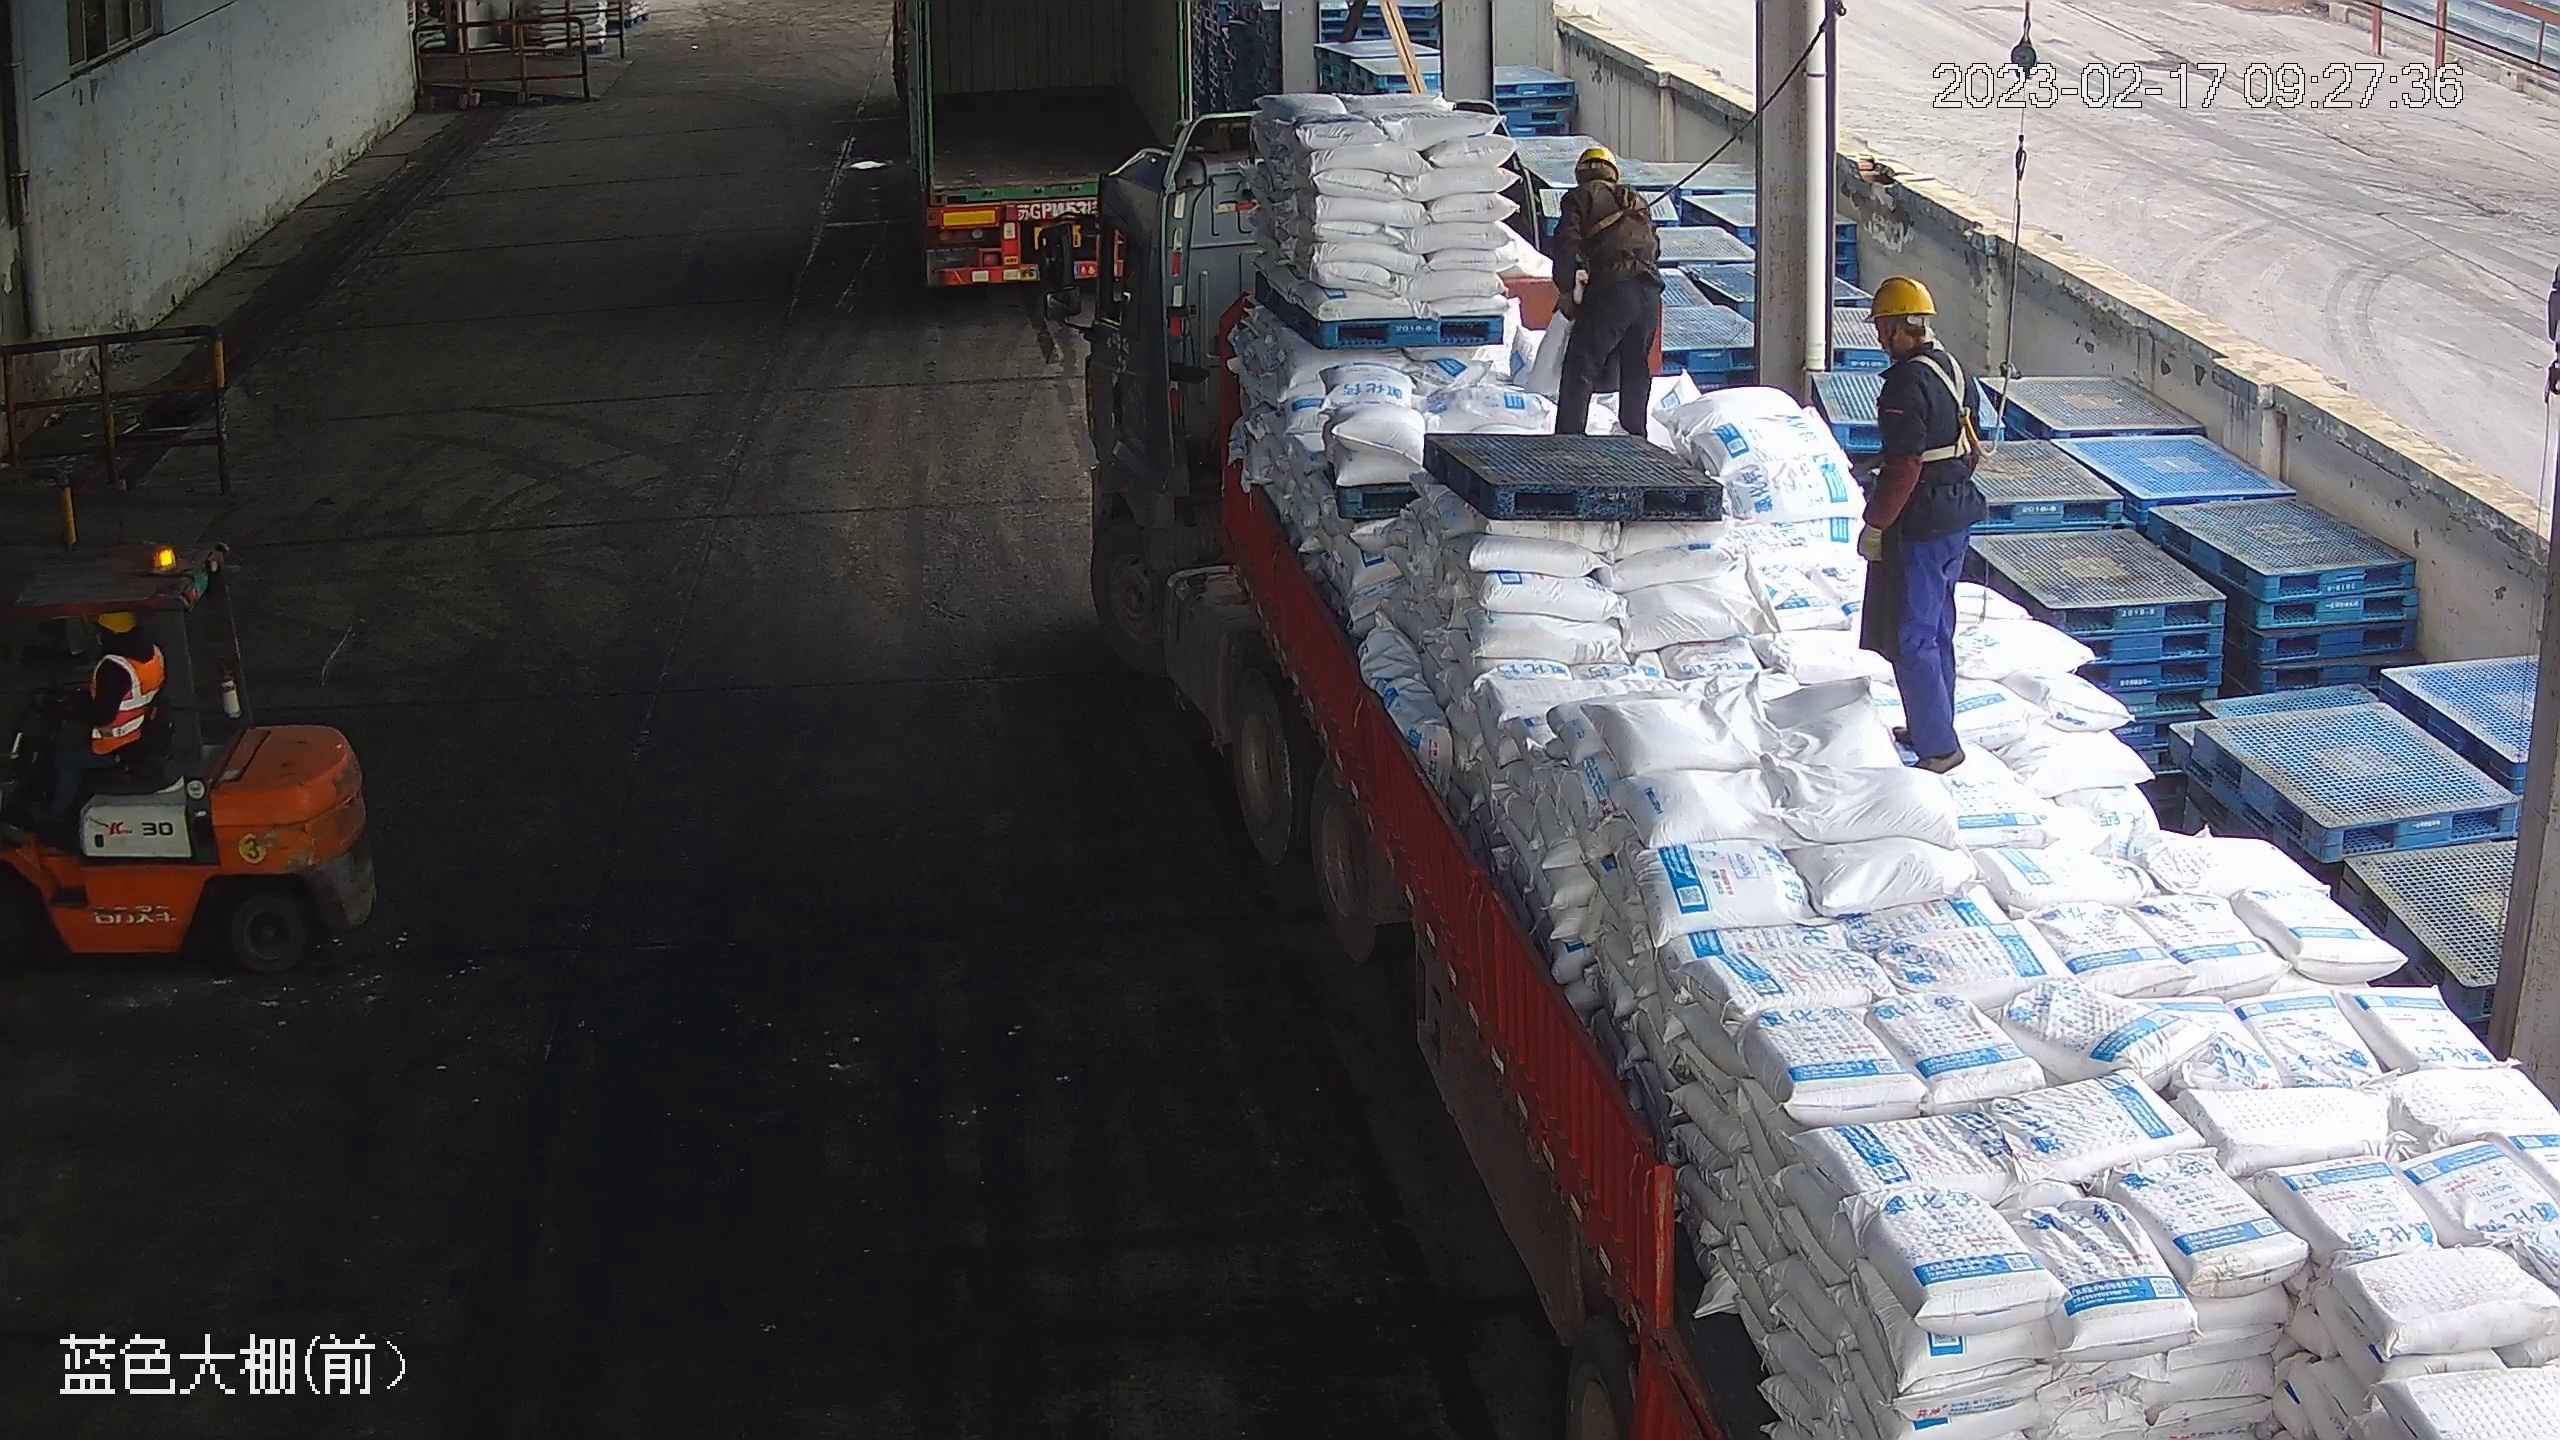belt: (1904, 348, 1995, 467), (1581, 173, 1656, 242)
head: (1858, 270, 1982, 416), (1560, 144, 1656, 228), (85, 608, 161, 685)
helmet: (1864, 271, 1937, 322), (1574, 142, 1621, 181), (94, 601, 144, 637)
people: (1848, 273, 1987, 772), (1545, 142, 1669, 439), (9, 606, 165, 816)
truck: (1036, 96, 2553, 1439), (886, 1, 1202, 305)
